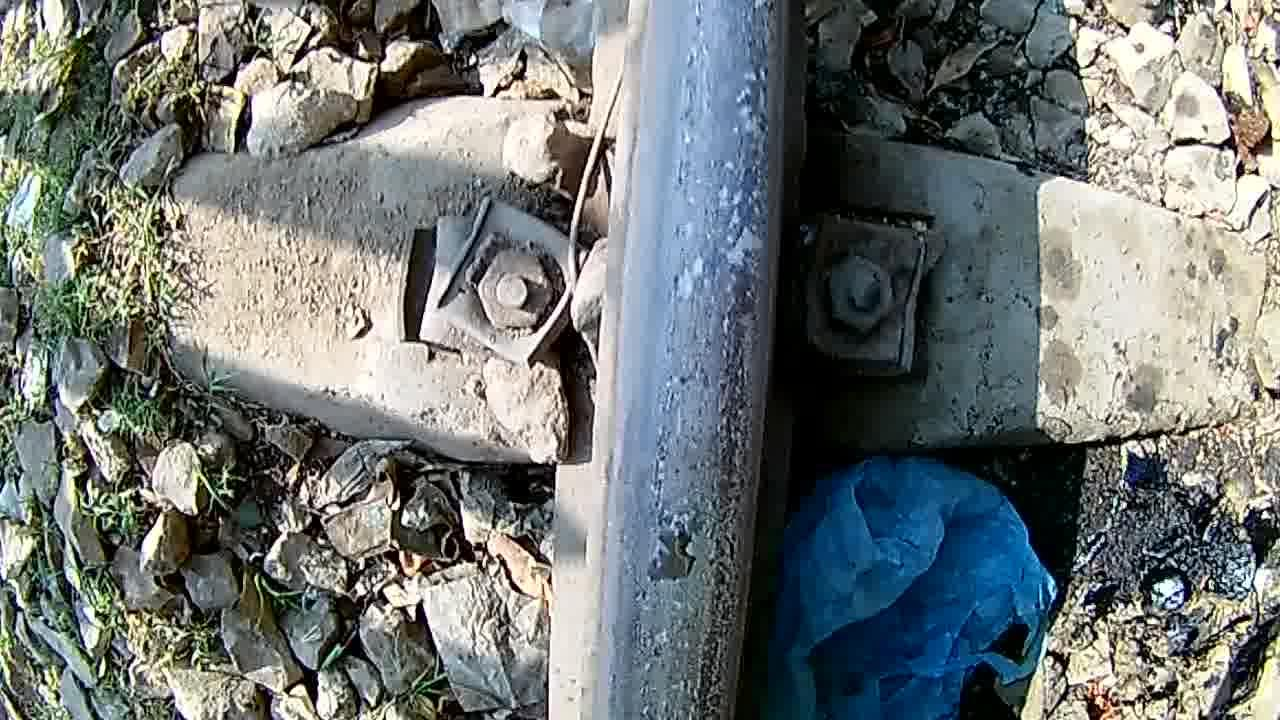crack: (616, 0, 792, 720)
